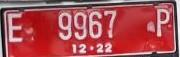6: (89, 12, 103, 42)
7: (103, 9, 118, 40)
9: (56, 11, 73, 40), (74, 11, 88, 41)
E: (6, 13, 27, 45)
P: (156, 7, 172, 38)
